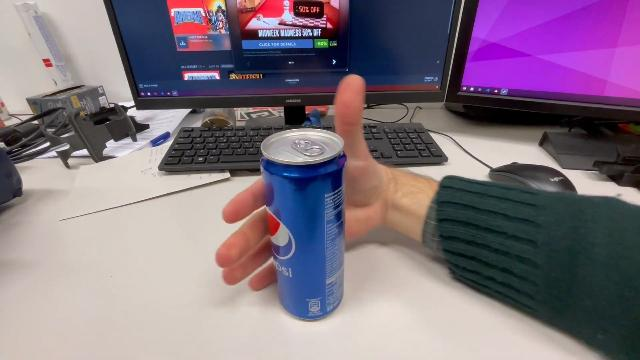Pepsi: (256, 124, 350, 322)
